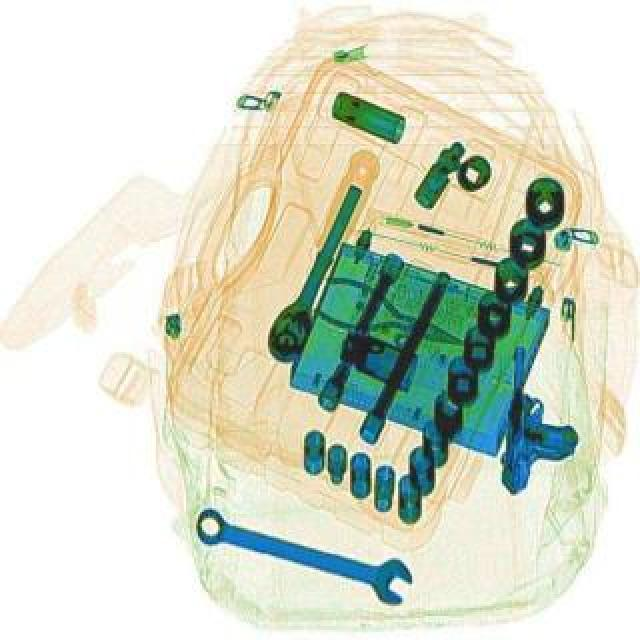gun: (498, 350, 580, 498)
scissors: (190, 500, 420, 614)
wrench: (308, 274, 472, 368)
